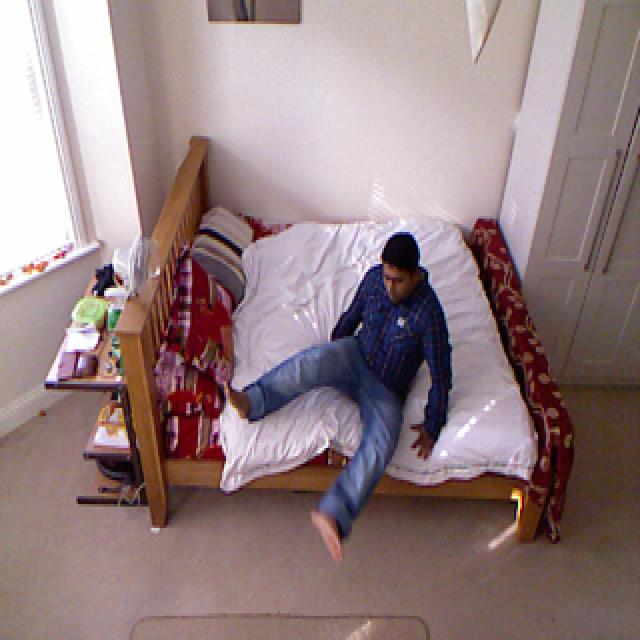sitting: (223, 228, 453, 553)
